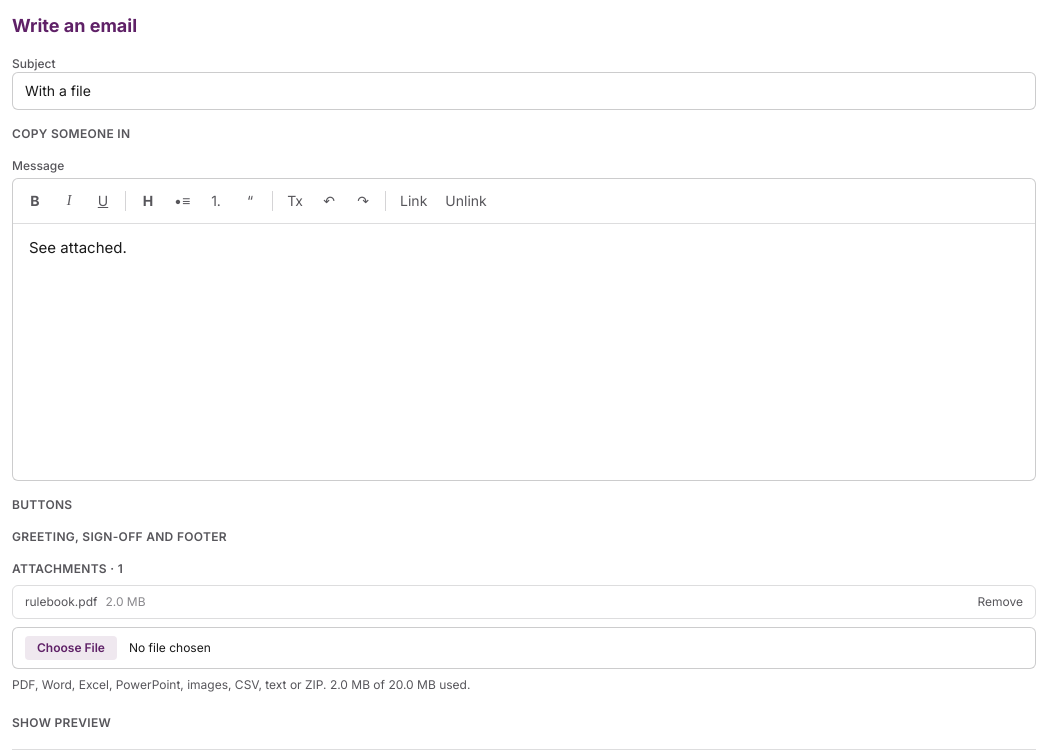
it: attachments › removes one through the server rather than only on screen
Click the button "Remove" at point(1000, 602), box left=978, top=594, right=1023, bottom=610
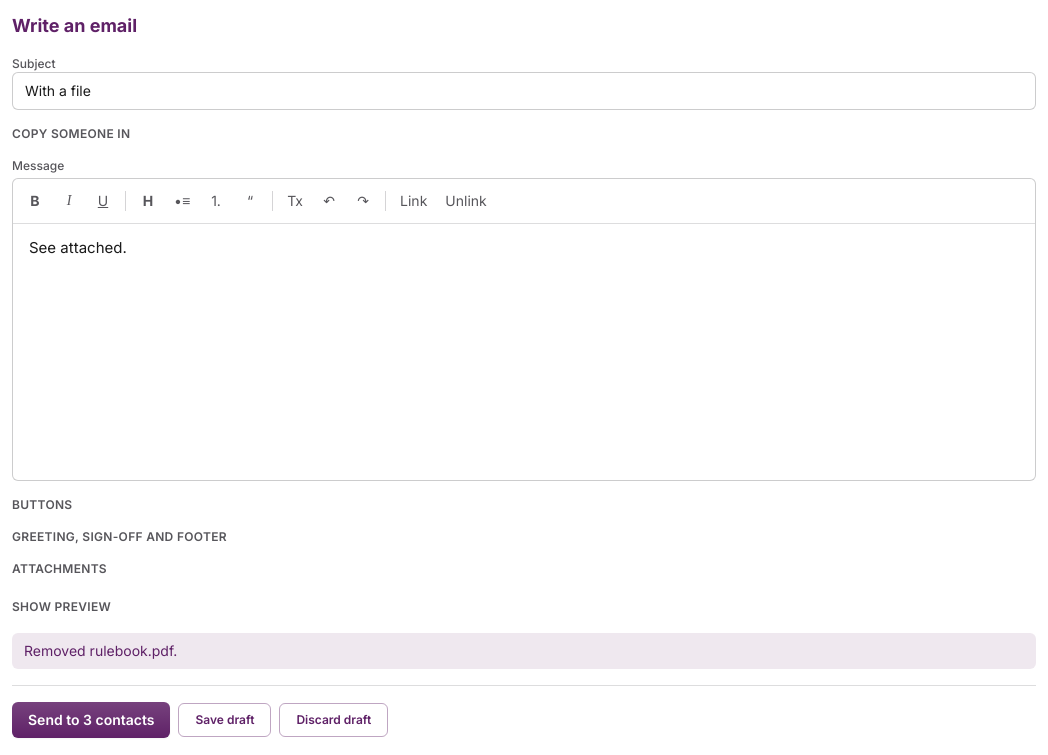
Result: the text "Removed rulebook.pdf." is shown at left=12, top=633, right=1036, bottom=669
